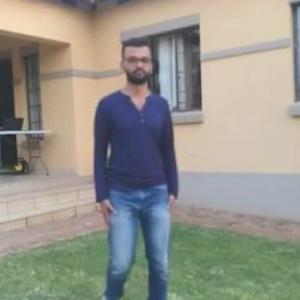follow: (89, 33, 180, 299)
